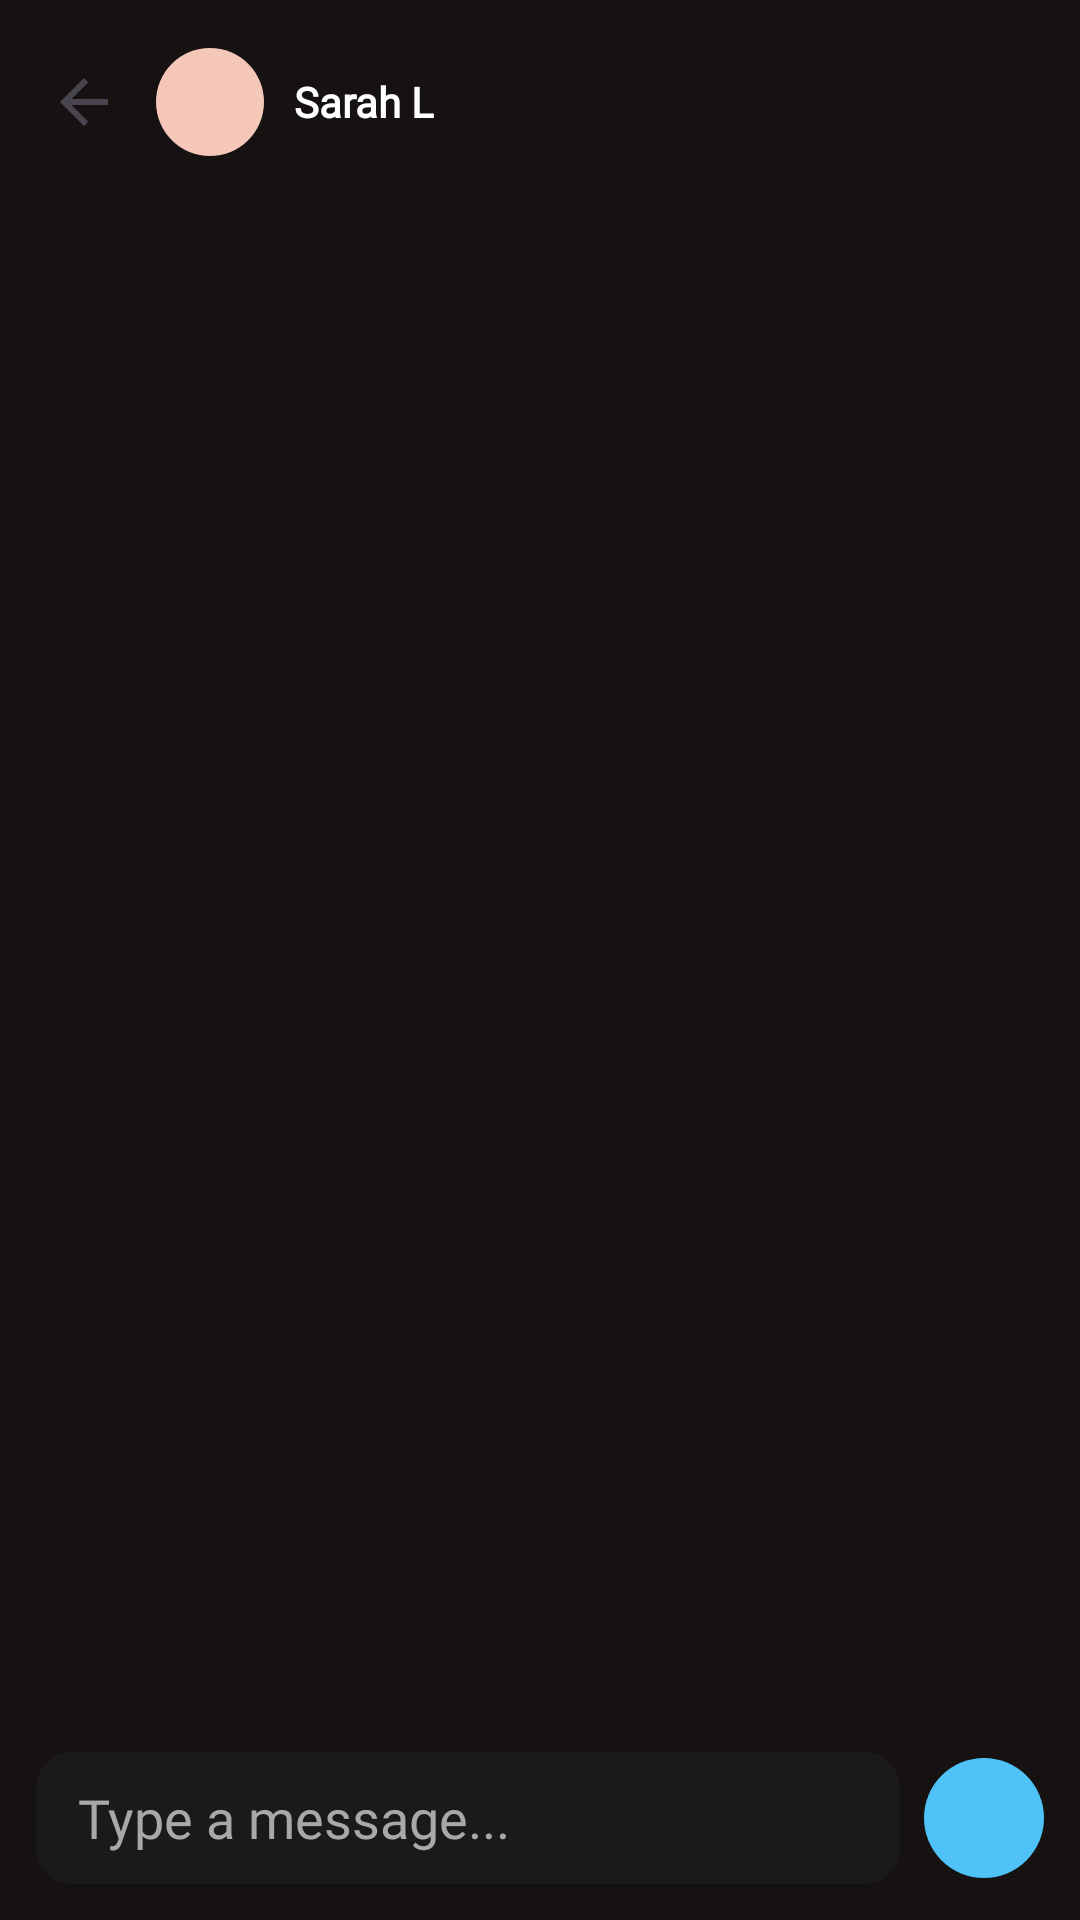

Icon bounding boxes for this 1080 × 1920 phone screenshot, format (x1, y1, x2, y2):
Go back: (60, 78, 108, 126)
